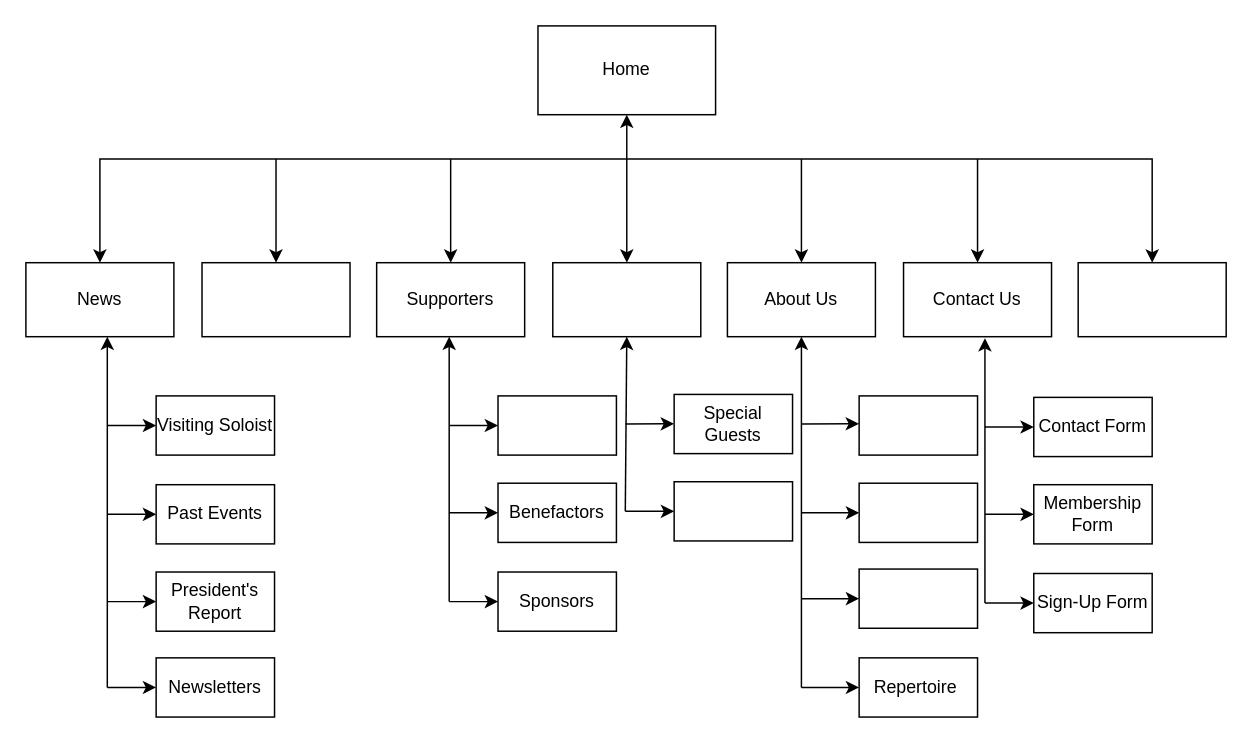
Image size: 1252x743. Some labels were removed from this diagram. The shapes that lost their labels are listed below. From the top down, each one's centre as x and y in pixels, then its label:
point (275, 299): Gallery
point (626, 299): People
point (1151, 299): Ticket Purchasing
point (556, 424): You Can Help
point (918, 424): History
point (733, 510): Life Members
point (918, 512): Committee
point (918, 598): Rules
